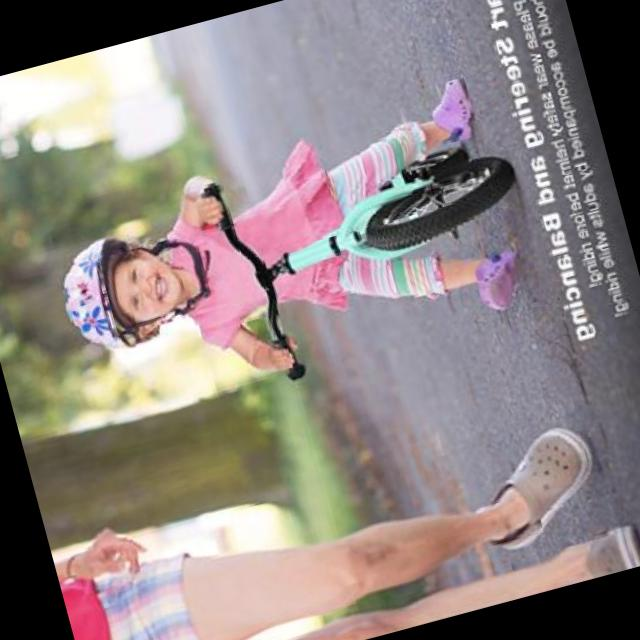With Helmet: (45, 217, 199, 371)
